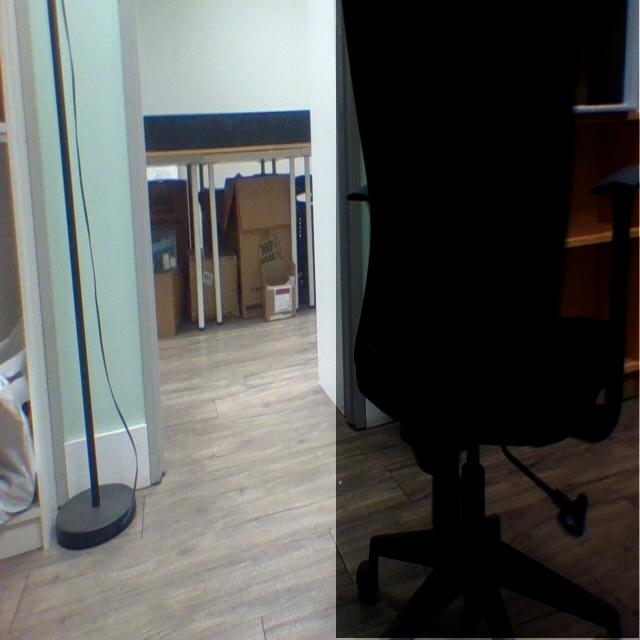black-chair: (336, 0, 640, 639)
